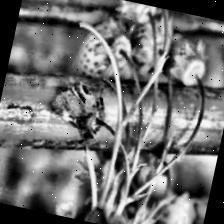Gray Mold: (45, 78, 112, 142)
